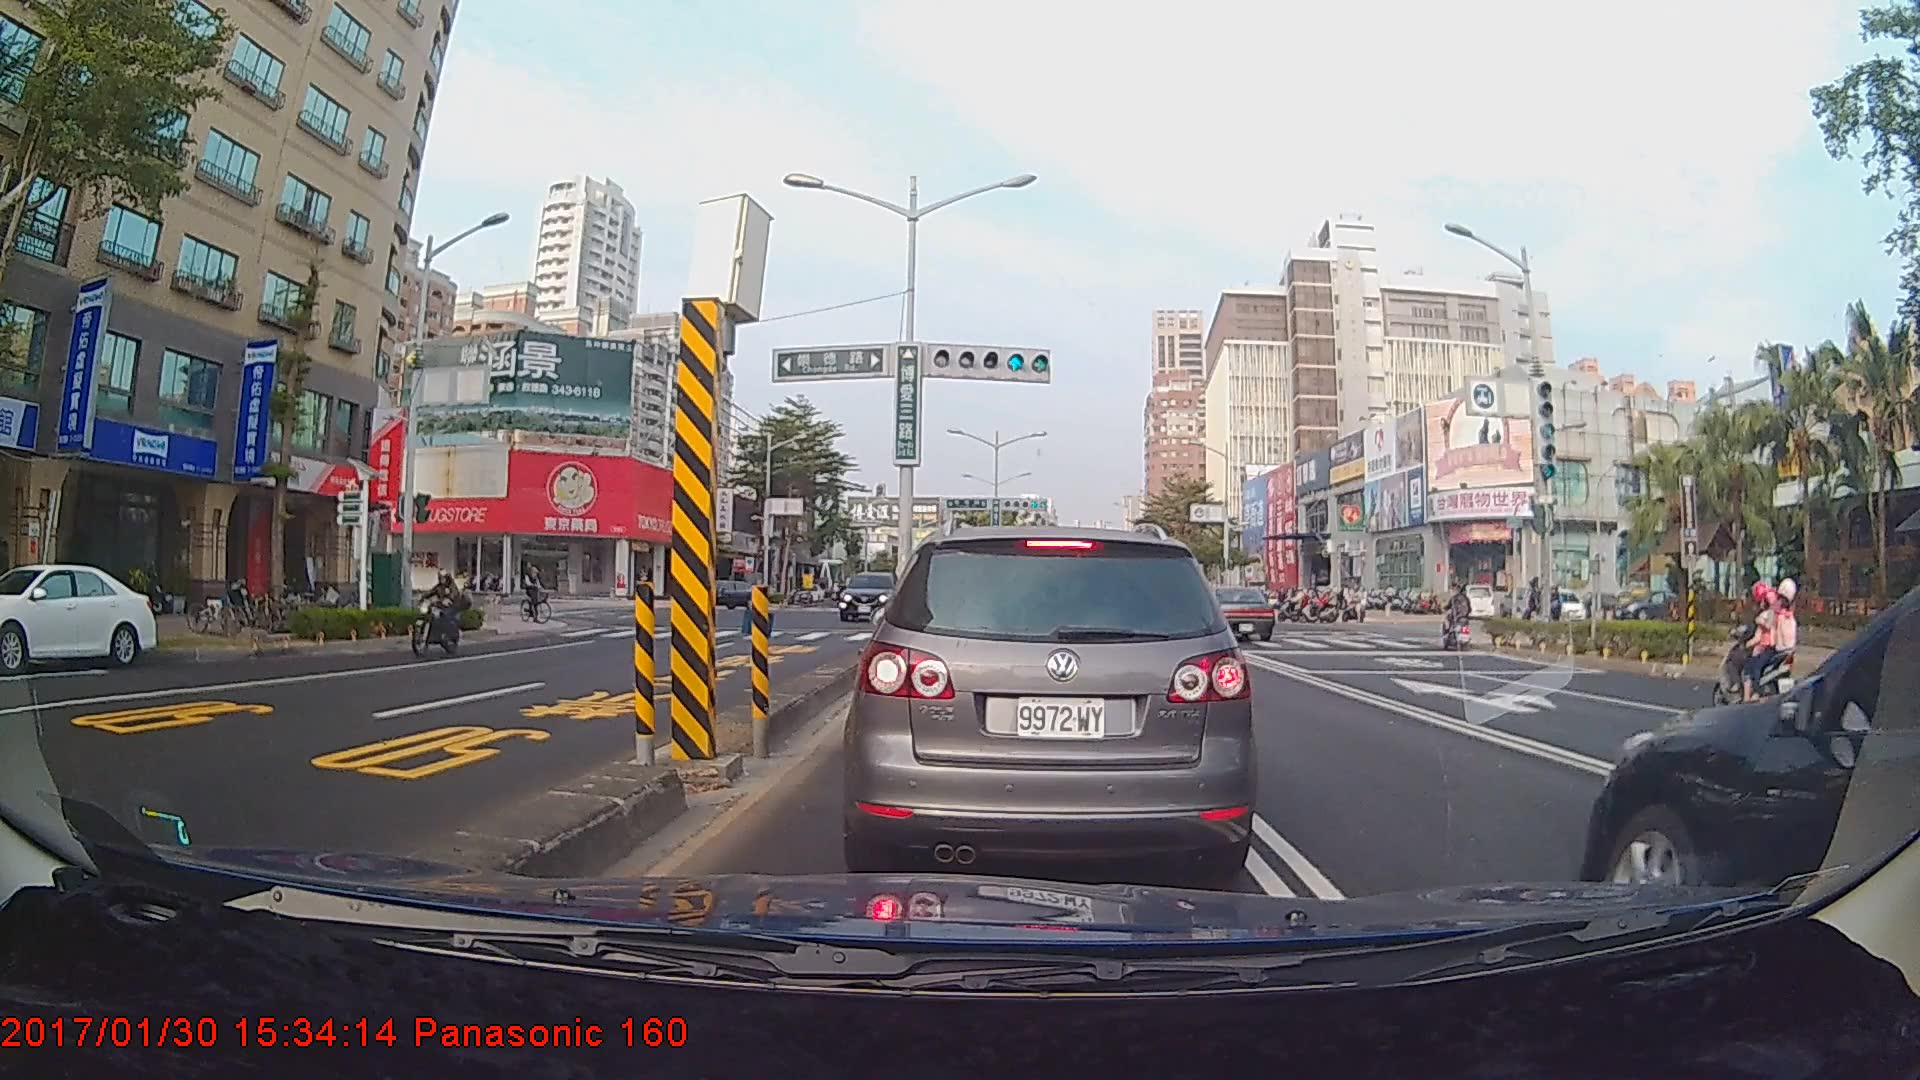rider: (1714, 578, 1811, 725), (410, 563, 474, 662), (518, 559, 561, 629), (1445, 582, 1478, 656)
vehicle: (852, 521, 1251, 878), (1579, 533, 1920, 886), (0, 561, 161, 671), (1191, 585, 1276, 641), (836, 569, 903, 621), (674, 578, 764, 611)
